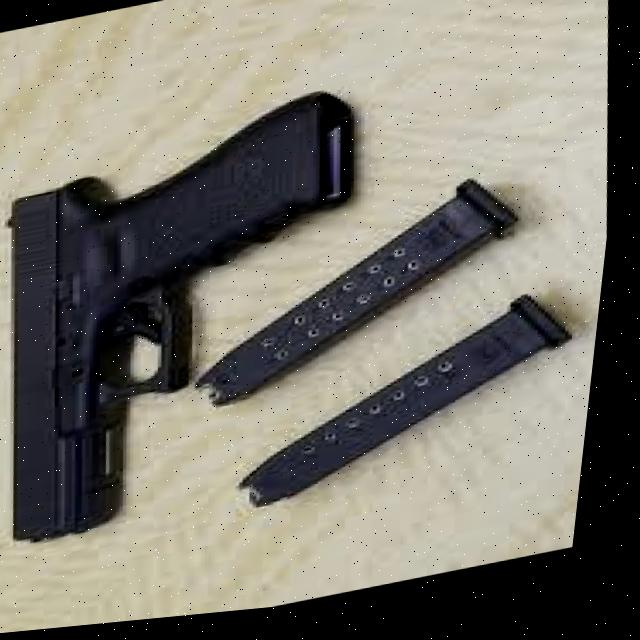gun: (8, 90, 357, 544)
